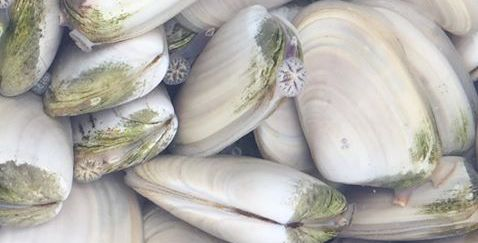tuatua: (291, 2, 442, 189), (118, 152, 352, 243), (174, 4, 303, 156), (40, 37, 170, 120), (72, 111, 178, 181)
